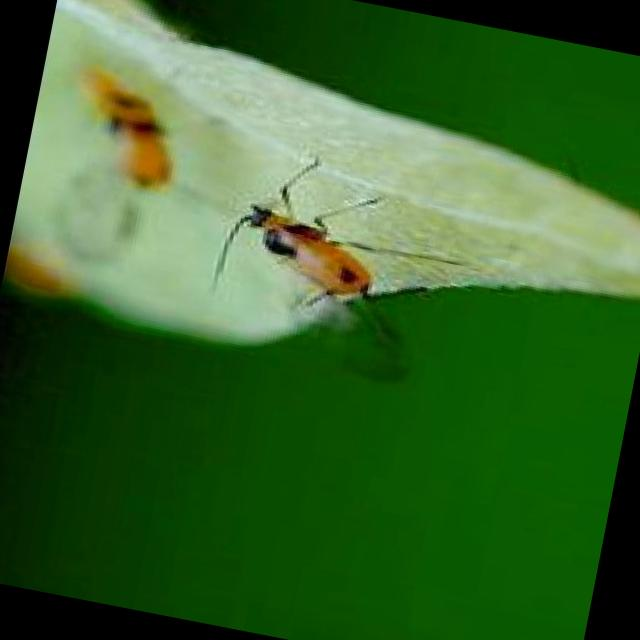aphid: (208, 182, 432, 342), (56, 77, 186, 262)
